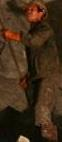boots: (39, 122, 57, 141), (1, 1, 1, 1)
gloves: (0, 28, 21, 42), (18, 73, 28, 90)
hard-hat: (24, 0, 46, 22)
